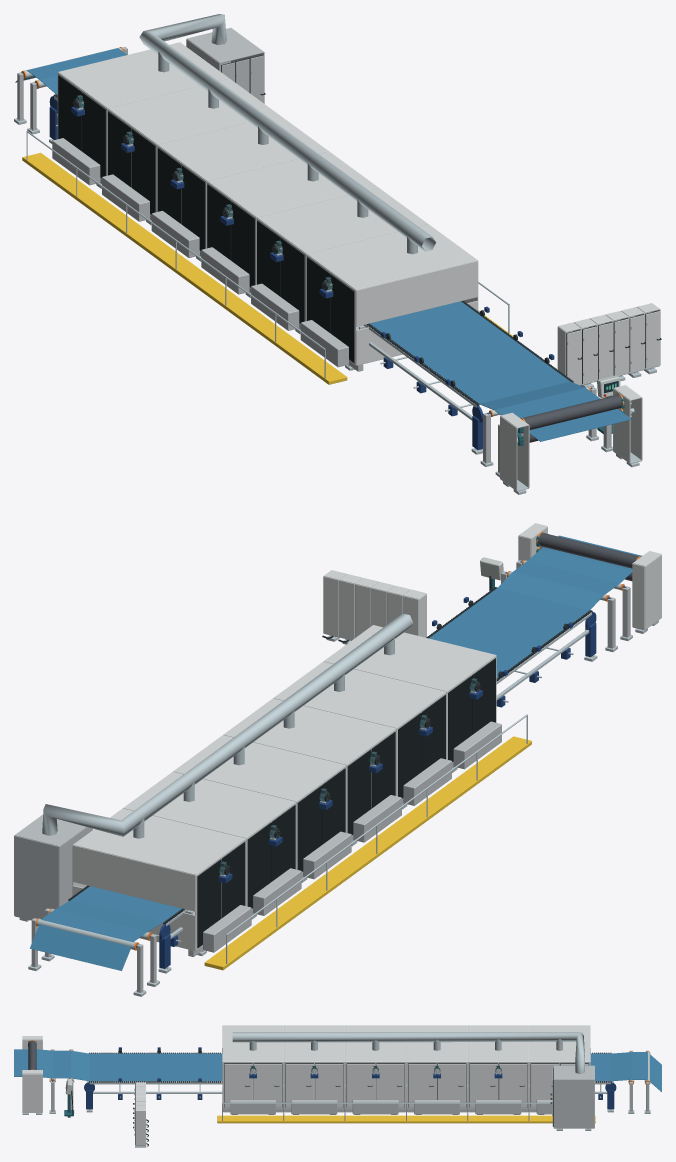
File: stenter.glb
The picture shows the model from 3 angles, top to bottom: view 1: azimuth 30°, elevation 25°; view 2: azimuth 150°, elevation 25°; view 3: azimuth 270°, elevation 25°; orthographic projection. The views are drawn at different scales.
Parts seen in each view (by area): view 1: fabric_web, f3_pipe.006, f3_service_aisle, f3_case_top, f3_case_top.005, f3_case_top.004, f3_case_top.003, f3_case_top.002, f3_case_top.001, f3_case_end_opening.001, panel_gasket, panel_gasket.012 (+29 smaller); view 2: fabric_web, f3_pipe.006, f3_service_aisle, f3_case_top.005, f3_case_top.004, f3_case_top.003, f3_case_top.002, f3_case_top.001, f3_case_top, f3_case_end_opening.023, f3_case_rear.002, panel_gasket.009 (+27 smaller); view 3: fabric_web, f3_pipe.006, f3_service_aisle.001, f3_case_wall.017, f3_case_top, f3_case_top.002, f3_case_top.003, f3_case_top.004, f3_case_top.001, f3_case_top.005, panel_skin.007, panel_skin.006 (+28 smaller).
Boxes of the visible parts, <box> form: fabric_web: <box>15,48,631,441</box>; f3_pipe.006: <box>139,14,435,251</box>; f3_service_aisle: <box>22,152,347,384</box>; f3_case_top: <box>307,224,477,290</box>; f3_case_top.005: <box>58,42,229,108</box>; f3_case_top.004: <box>108,78,278,144</box>; f3_case_top.003: <box>158,115,328,180</box>; f3_case_top.002: <box>207,151,378,217</box>; f3_case_top.001: <box>257,188,427,253</box>; f3_case_end_opening.001: <box>356,260,478,326</box>; panel_gasket: <box>330,274,354,362</box>; panel_gasket.012: <box>181,165,205,250</box>; fabric_web: <box>30,535,642,970</box>; f3_pipe.006: <box>42,613,413,836</box>; f3_service_aisle: <box>204,736,531,970</box>; f3_case_top.005: <box>73,808,245,874</box>; f3_case_top.004: <box>123,771,295,838</box>; f3_case_top.003: <box>173,735,345,801</box>; f3_case_top.002: <box>223,698,395,764</box>; f3_case_top.001: <box>273,661,445,728</box>; f3_case_top: <box>323,625,495,691</box>; f3_case_end_opening.023: <box>72,845,195,911</box>; f3_case_rear.002: <box>14,835,59,920</box>; panel_gasket.009: <box>347,749,371,835</box>; fabric_web: <box>14,1049,661,1091</box>; f3_pipe.006: <box>232,1032,584,1073</box>; f3_service_aisle.001: <box>217,1115,595,1123</box>; f3_case_wall.017: <box>553,1079,594,1128</box>; f3_case_top: <box>222,1025,283,1062</box>; f3_case_top.002: <box>345,1025,406,1062</box>; f3_case_top.003: <box>406,1025,467,1062</box>; f3_case_top.004: <box>468,1025,528,1062</box>; f3_case_top.001: <box>284,1025,344,1062</box>; f3_case_top.005: <box>529,1025,590,1062</box>; panel_skin.007: <box>315,1064,343,1107</box>; panel_skin.006: <box>285,1064,313,1107</box>.
Size of the model in its own units: 9.26 by 3.77 by 31.7.
